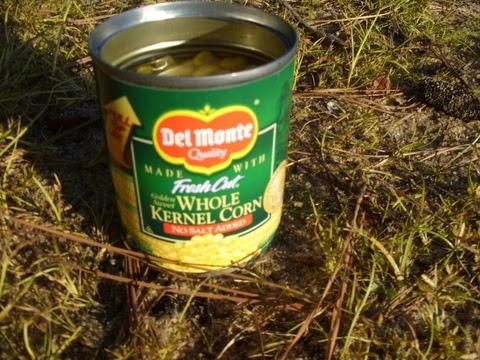metal: (88, 2, 299, 274)
